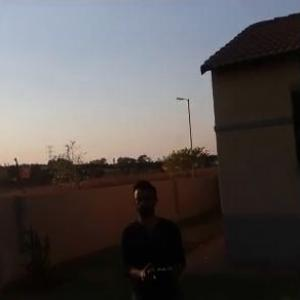follow: (116, 164, 190, 299)
